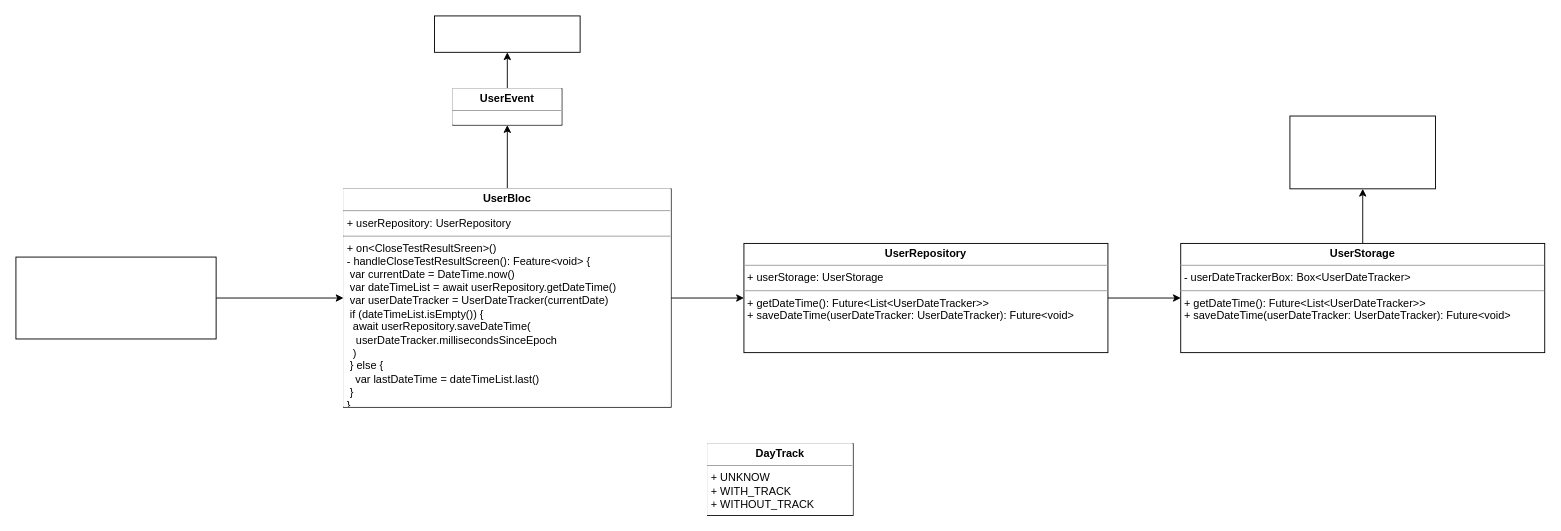
The diagram is 1561 pixels wide and 531 high, and some of its shapes have lost their labels. The centre of each missing label's shape, as x and y in pixels:
"CloseTestResultSreen" goes at point (507, 33).
"TestResultScreenStore + userBloc: UserBloc + @observable closeScreen(): void" goes at point (115, 297).
"UserDateTracker - date: int + getDate(): int" goes at point (1362, 152).
